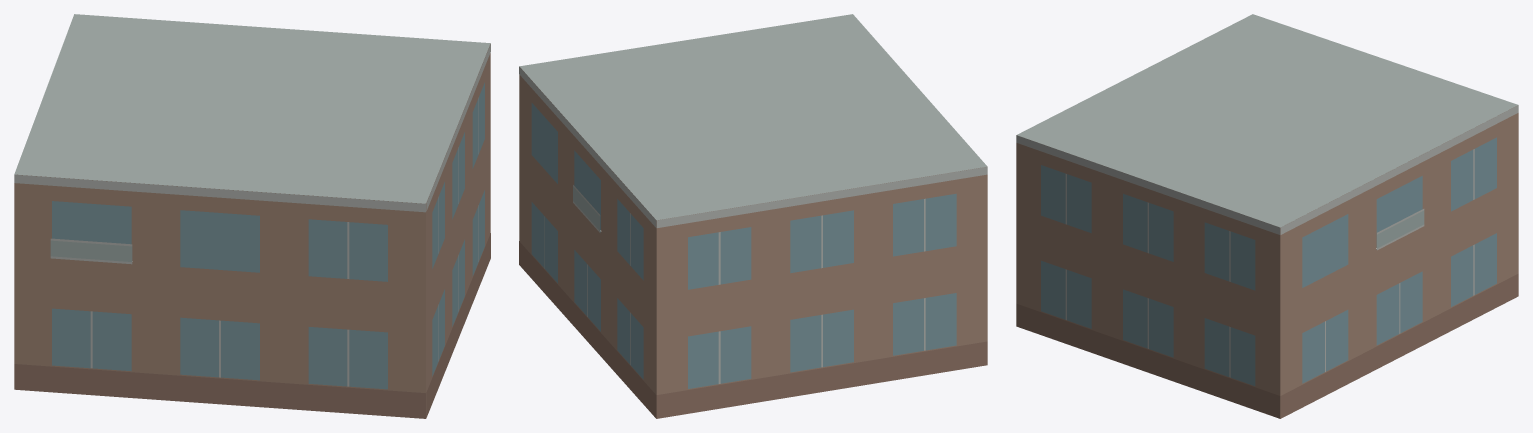
Rendered from survey-upis-32986174.glb.
The picture shows the model from 3 angles, left to right: view 1: azimuth 30°, elevation 25°; view 2: azimuth 150°, elevation 25°; view 3: azimuth 270°, elevation 25°; orthographic projection. The views are drawn at different scales.
Parts seen in each view (by area): view 1: survey-upis-32986174.tmp; view 2: survey-upis-32986174.tmp; view 3: survey-upis-32986174.tmp.
Boxes of the visible parts, left/top/right/bottom form: survey-upis-32986174.tmp: left=14, top=14, right=490, bottom=418; survey-upis-32986174.tmp: left=519, top=14, right=987, bottom=418; survey-upis-32986174.tmp: left=1016, top=14, right=1518, bottom=418.
Size of the model in its own units: 14.61 by 6.1 by 14.52.
